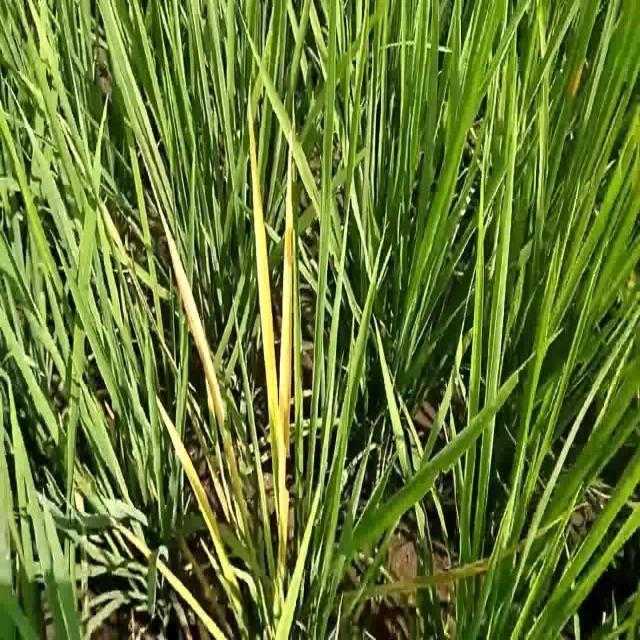Rice Tungro: (101, 493, 227, 640), (152, 391, 238, 591), (244, 85, 280, 429), (278, 119, 298, 449)
